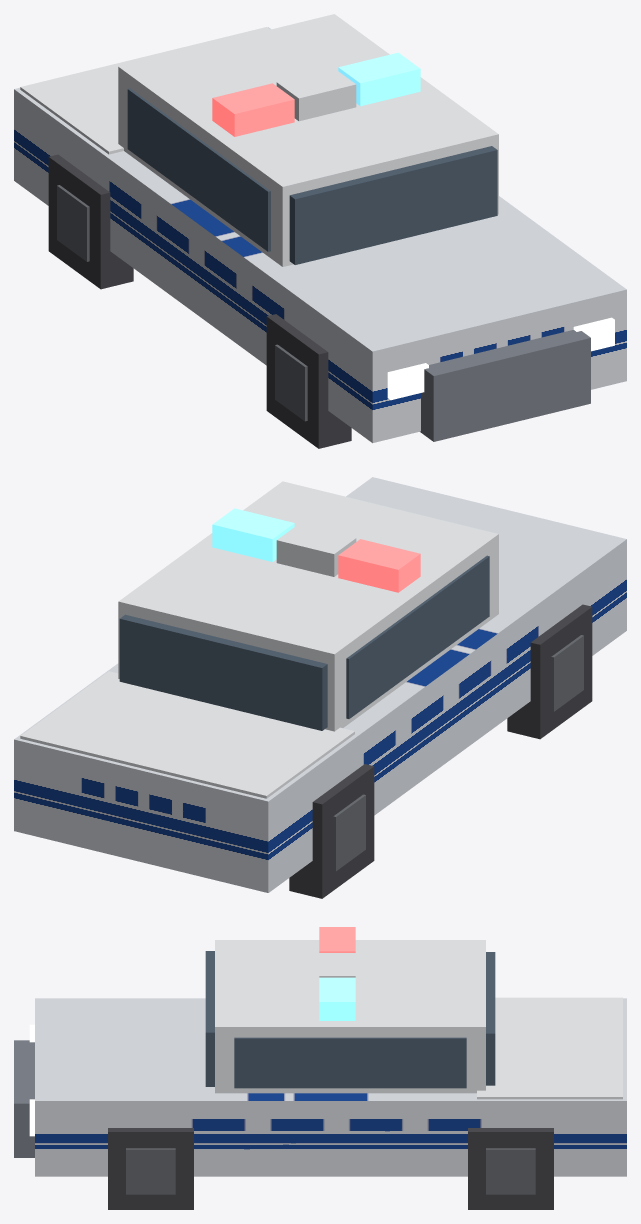
File: nyc_police_car.glb
3 views of the same model, one above another, from view 1: azimuth 30°, elevation 25°; view 2: azimuth 150°, elevation 25°; view 3: azimuth 270°, elevation 25° (orthographic). The views are drawn at different scales.
Parts seen in each view (by area): view 1: nyc_police_car.glb; view 2: nyc_police_car.glb; view 3: nyc_police_car.glb.
Boxes of the visible parts, box(x1,y1,x2,y2) form: nyc_police_car.glb: box(14, 14, 626, 448); nyc_police_car.glb: box(14, 477, 626, 898); nyc_police_car.glb: box(14, 927, 626, 1209).
Bounding box in the file's own units: 2.04 × 1.61 × 4.7.
Materials: 9 (1 with a texture image).
